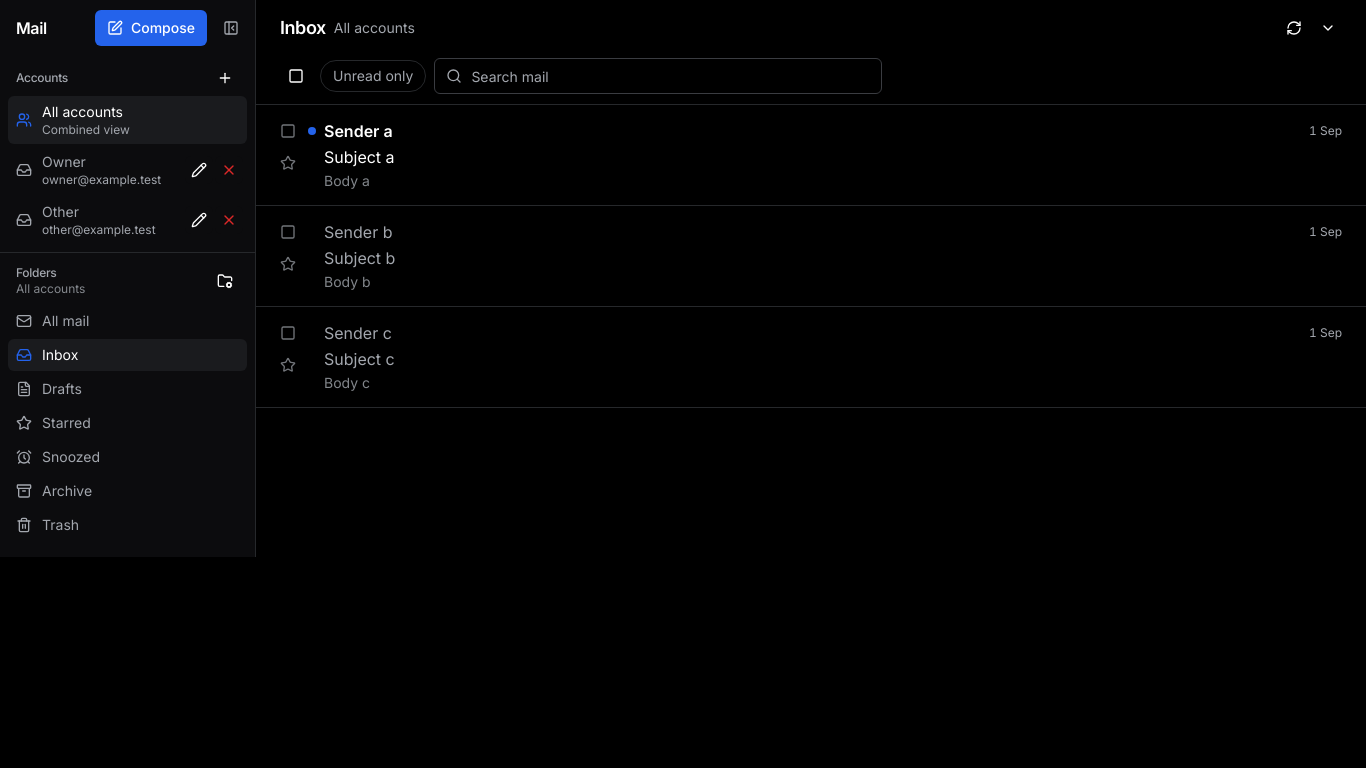
Test: snooze › is not offered while offline
Check: the text "Subject a" is shown, box [324, 147, 395, 167]
Right-click the list item "Sender a 1 Sep Subject a Body a" at (811, 156), box [256, 105, 1365, 206]
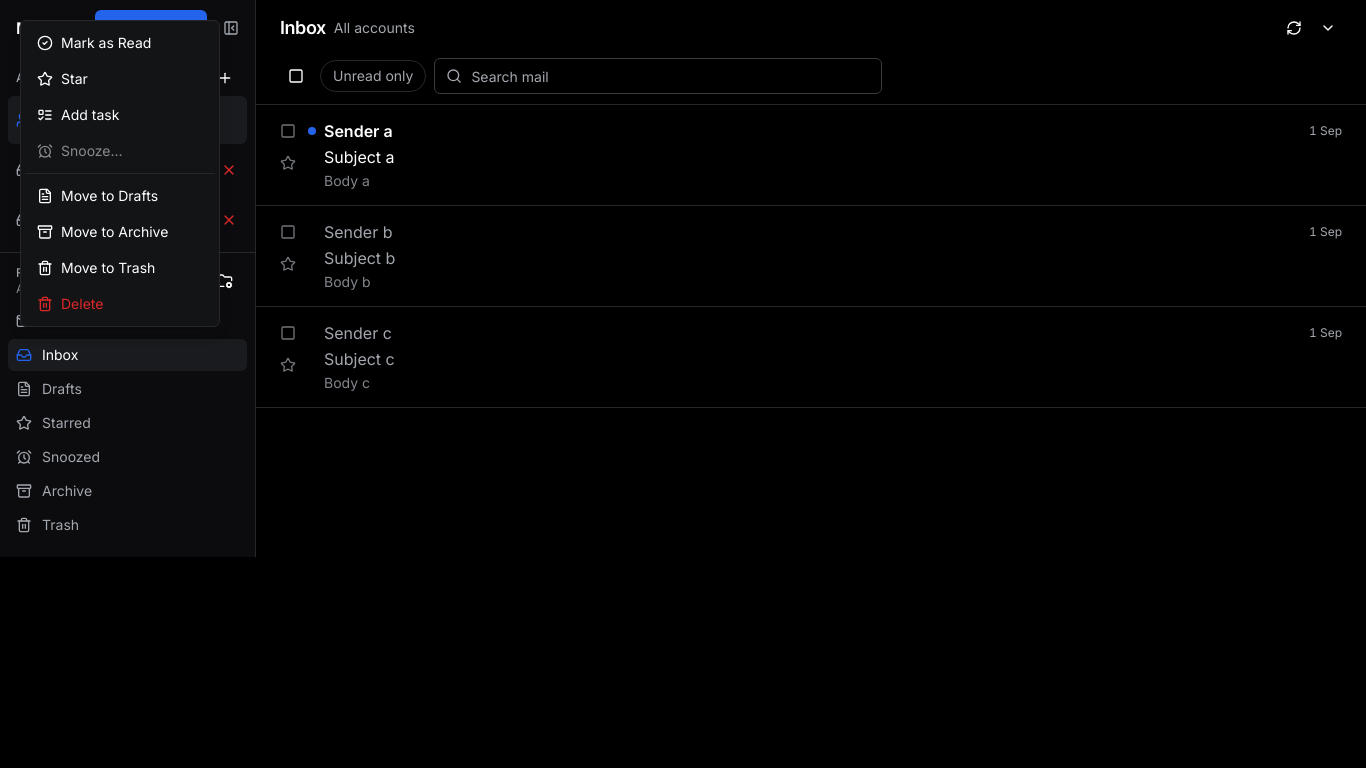
Check: the button "Snooze…" is disabled, box [25, 133, 215, 169]
